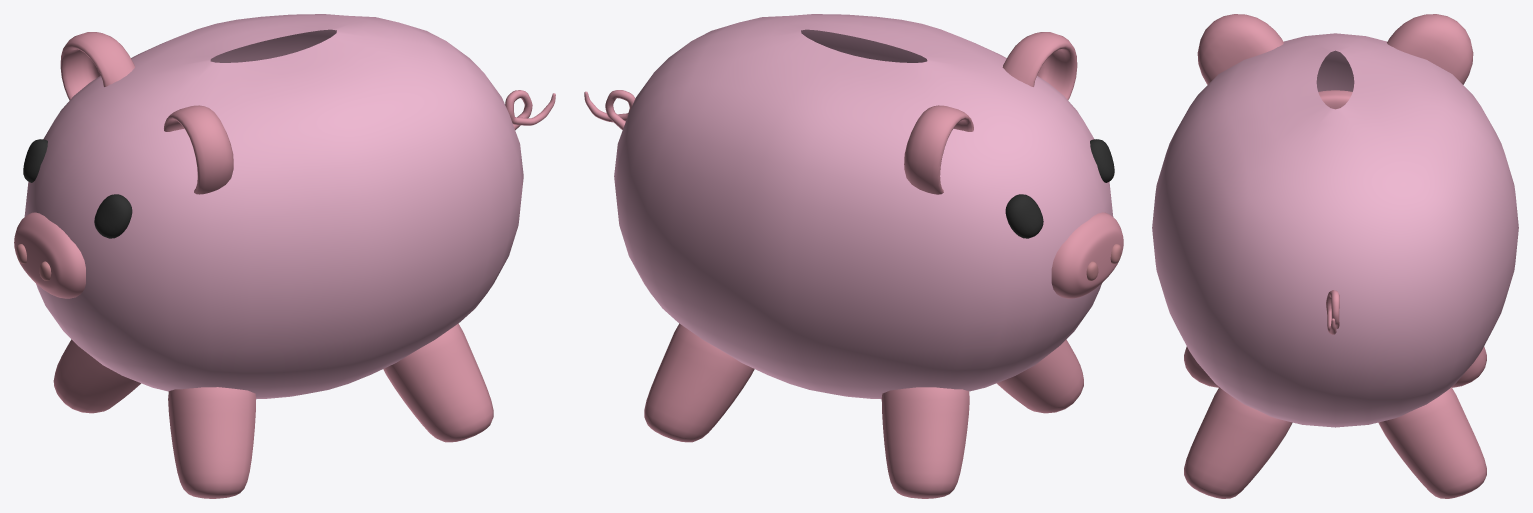
File: PigNormal.fbx
3 views of the same model, side by side, from view 1: azimuth 30°, elevation 25°; view 2: azimuth 150°, elevation 25°; view 3: azimuth 270°, elevation 25° (orthographic). The views are drawn at different scales.
Parts seen in each view (by area): view 1: Cube.057, Cube.058, Cube.062, Cube.060, Cube.059, Vert.031; view 2: Cube.057, Cube.058, Cube.062, Cube.060, Cube.059, Vert.031; view 3: Cube.057, Cube.058, Cube.062, Vert.031, Cube.060.
Part boxes in pixels (left/top/right/bottom): Cube.057: left=24, top=14, right=523, bottom=399; Cube.058: left=53, top=323, right=493, bottom=498; Cube.062: left=60, top=32, right=233, bottom=194; Cube.060: left=14, top=212, right=85, bottom=298; Cube.059: left=23, top=139, right=132, bottom=238; Vert.031: left=505, top=90, right=555, bottom=130; Cube.057: left=614, top=14, right=1113, bottom=399; Cube.058: left=644, top=323, right=1083, bottom=498; Cube.062: left=904, top=32, right=1077, bottom=194; Cube.060: left=1051, top=212, right=1123, bottom=298; Cube.059: left=1005, top=139, right=1114, bottom=238; Vert.031: left=584, top=90, right=635, bottom=129; Cube.057: left=1152, top=33, right=1518, bottom=427; Cube.058: left=1184, top=346, right=1486, bottom=498; Cube.062: left=1197, top=14, right=1473, bottom=84; Vert.031: left=1326, top=290, right=1339, bottom=334; Cube.060: left=1318, top=90, right=1352, bottom=109.
Size of the model in its own units: 123 by 85.5 by 78.38.
